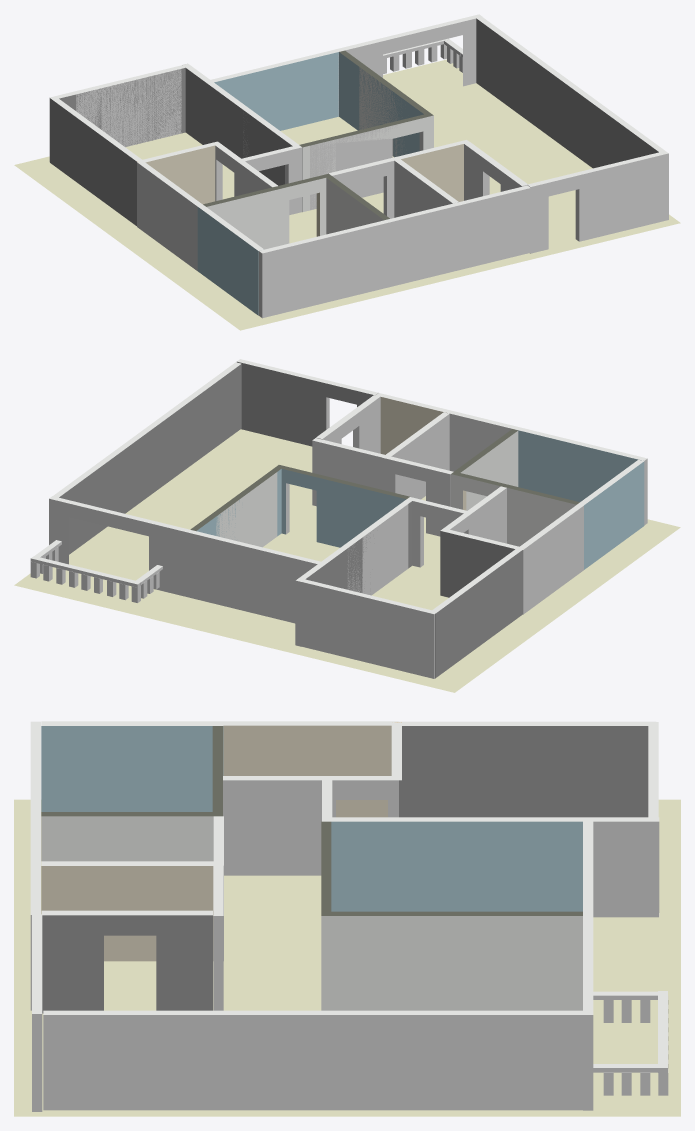
File: houseonly.glb
The picture shows the model from 3 angles, top to bottom: view 1: azimuth 30°, elevation 25°; view 2: azimuth 150°, elevation 25°; view 3: azimuth 270°, elevation 25°; orthographic projection. The views are drawn at different scales.
Visible parts, largest first — view 1: 主地板, 客厅长白墙-材质.2, 主卧-材质.2 (×2), 小卧室墙1, 家门墙, 厨房-材质.1, 主卧, 储物间 (×2), 主厕所 (×2), 小厕所, 小卧室墙2-材质.1, 小卧室主厕所墙-白色 (+22 smaller); view 2: 主地板, 客厅长白墙-材质.2, 主卧, 厨房, 家门墙-材质.2, 主卧-材质.2, 主厕所 (×2), 小卧室墙1-材质.1, 客厅阳台墙, 厨房-材质.1, 储物间 (×2), 小卧室墙2-材质.1 (+21 smaller); view 3: 客厅长白墙, 主地板, 客厅厨房墙-白色, 厨房卧室墙-材质.1, 主卧-材质.2, 小卧室墙2-材质.1, 小厕所墙-材质.2, 主厕所, 主厕所-材质.3, 小厕所储物间墙-材质.3, 储物间小卧室墙-白色, 厨房卧室墙.1 (+19 smaller).
Part boxes in pixels (x1,y1,x2,y2): 主地板: (14, 59, 680, 330); 客厅长白墙-材质.2: (476, 18, 658, 168); 主卧-材质.2 (×2): (50, 68, 185, 225); 小卧室墙1: (258, 222, 393, 318); 家门墙: (527, 153, 668, 253); 厨房-材质.1: (214, 52, 338, 130); 主卧: (49, 69, 181, 161); 储物间 (×2): (328, 161, 460, 286); 主厕所 (×2): (137, 146, 271, 270); 小厕所: (459, 188, 530, 270); 小卧室墙2-材质.1: (197, 207, 263, 315); 小卧室主厕所墙-白色: (207, 178, 326, 249); 主地板: (14, 429, 680, 692); 客厅长白墙-材质.2: (59, 364, 241, 554); 主卧: (301, 582, 434, 678); 厨房: (188, 532, 317, 623); 家门墙-材质.2: (237, 361, 373, 446); 主卧-材质.2: (435, 550, 522, 678); 主厕所 (×2): (450, 488, 583, 614); 小卧室墙1-材质.1: (518, 430, 641, 501); 客厅阳台墙: (49, 498, 192, 597); 厨房-材质.1: (281, 469, 406, 547); 储物间 (×2): (382, 413, 514, 536); 小卧室墙2-材质.1: (584, 461, 644, 569); 客厅长白墙: (43, 1015, 582, 1110); 主地板: (14, 799, 680, 1116); 客厅厨房墙-白色: (321, 916, 582, 1010); 厨房卧室墙-材质.1: (331, 821, 582, 911); 主卧-材质.2: (402, 726, 648, 817); 小卧室墙2-材质.1: (41, 726, 223, 811); 小厕所墙-材质.2: (42, 915, 212, 1013); 主厕所: (223, 780, 398, 875); 主厕所-材质.3: (223, 725, 391, 817); 小厕所储物间墙-材质.3: (41, 866, 213, 961); 储物间小卧室墙-白色: (41, 816, 213, 861); 厨房卧室墙.1: (593, 821, 659, 917).
Bounding box in the file's own units: 4.9 × 0.7094 × 4.36.
